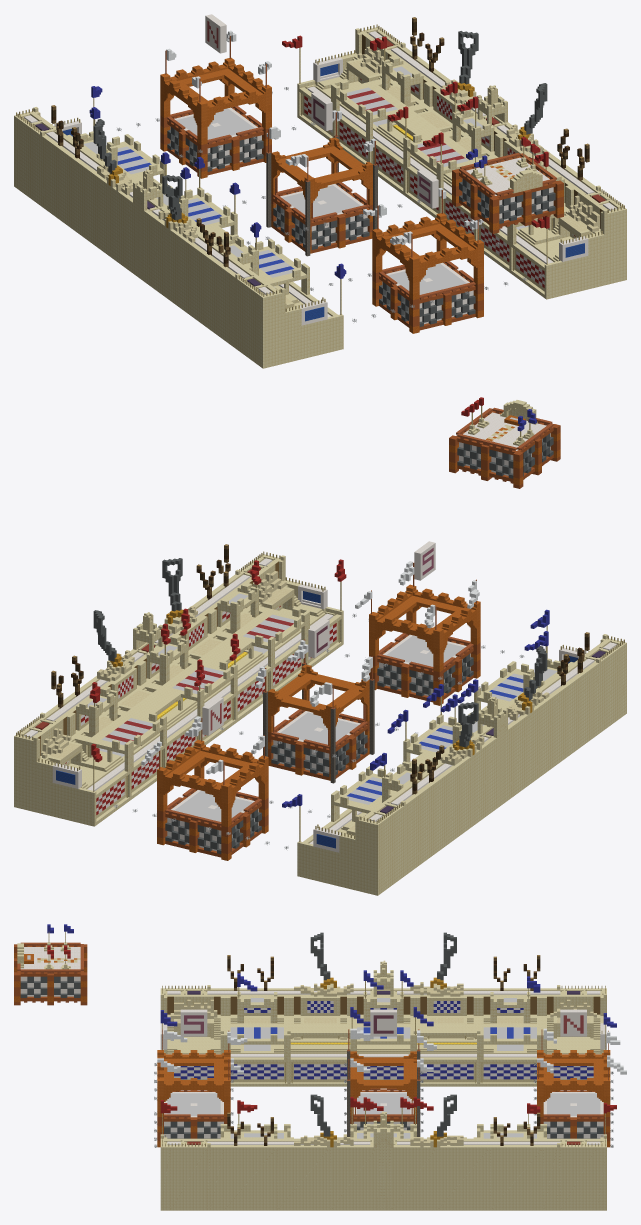
Rendered from minecraft.obj.
The picture shows the model from 3 angles, top to bottom: view 1: azimuth 30°, elevation 25°; view 2: azimuth 150°, elevation 25°; view 3: azimuth 270°, elevation 25°; orthographic projection. The views are drawn at different scales.
Size of the model in its own units: 119 by 65 by 184.
